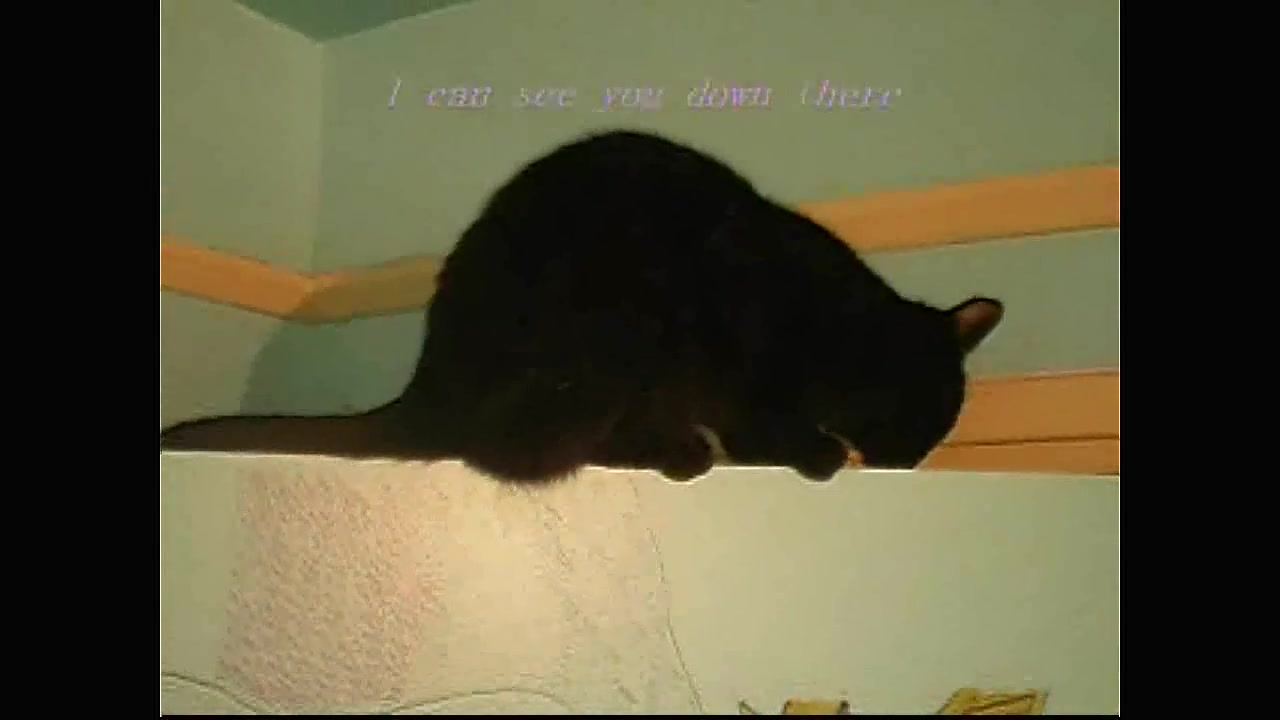cat: (160, 122, 1006, 493)
